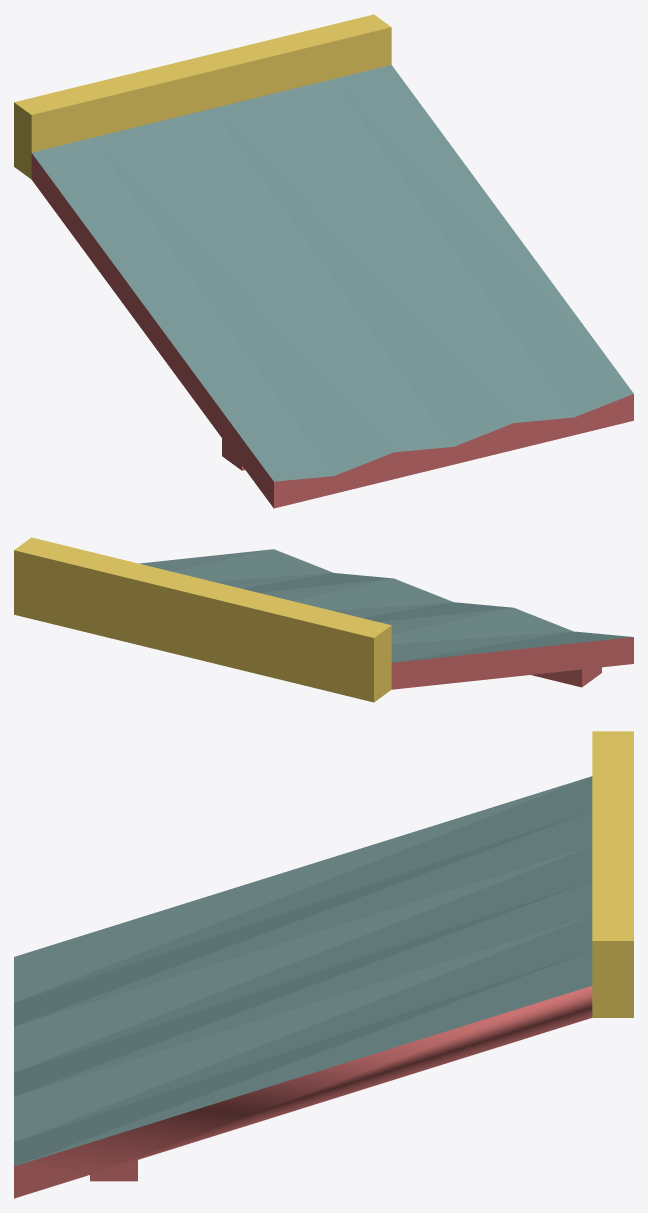
The model's file is Roof_3.fbx.
3 views of the same model, one above another, from view 1: azimuth 30°, elevation 25°; view 2: azimuth 150°, elevation 25°; view 3: azimuth 270°, elevation 25° (orthographic). The views are drawn at different scales.
Visible parts, largest first — view 1: Asian_Prop_Building_Modular_Roof_Edge_02.002, Asian_Prop_Building_Modular_Roof_Edge_02.001, Asian_Prop_Building_Modular_Roof_Edge_02; view 2: Asian_Prop_Building_Modular_Roof_Edge_02.001, Asian_Prop_Building_Modular_Roof_Edge_02.002, Asian_Prop_Building_Modular_Roof_Edge_02; view 3: Asian_Prop_Building_Modular_Roof_Edge_02.002, Asian_Prop_Building_Modular_Roof_Edge_02, Asian_Prop_Building_Modular_Roof_Edge_02.001.
Part boxes in pixels (bbox=[...]): Asian_Prop_Building_Modular_Roof_Edge_02.002: bbox=[32, 65, 633, 481]; Asian_Prop_Building_Modular_Roof_Edge_02.001: bbox=[14, 14, 391, 179]; Asian_Prop_Building_Modular_Roof_Edge_02: bbox=[31, 153, 633, 508]; Asian_Prop_Building_Modular_Roof_Edge_02.001: bbox=[14, 537, 391, 702]; Asian_Prop_Building_Modular_Roof_Edge_02.002: bbox=[139, 549, 632, 662]; Asian_Prop_Building_Modular_Roof_Edge_02: bbox=[391, 637, 633, 689]; Asian_Prop_Building_Modular_Roof_Edge_02.002: bbox=[14, 776, 592, 1166]; Asian_Prop_Building_Modular_Roof_Edge_02: bbox=[14, 986, 592, 1198]; Asian_Prop_Building_Modular_Roof_Edge_02.001: bbox=[592, 731, 633, 1017].
Bounding box in the file's own units: 517 × 296 × 646.
